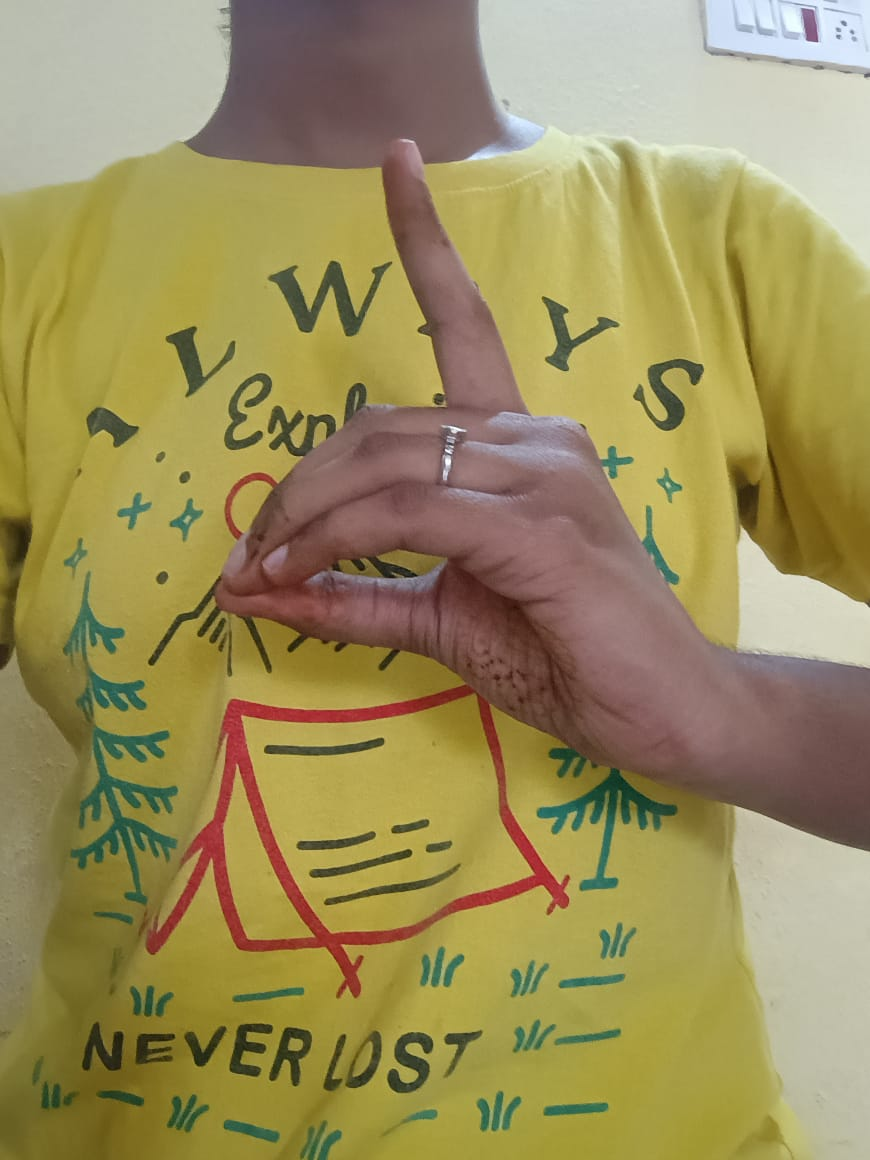D: (215, 136, 685, 792)
